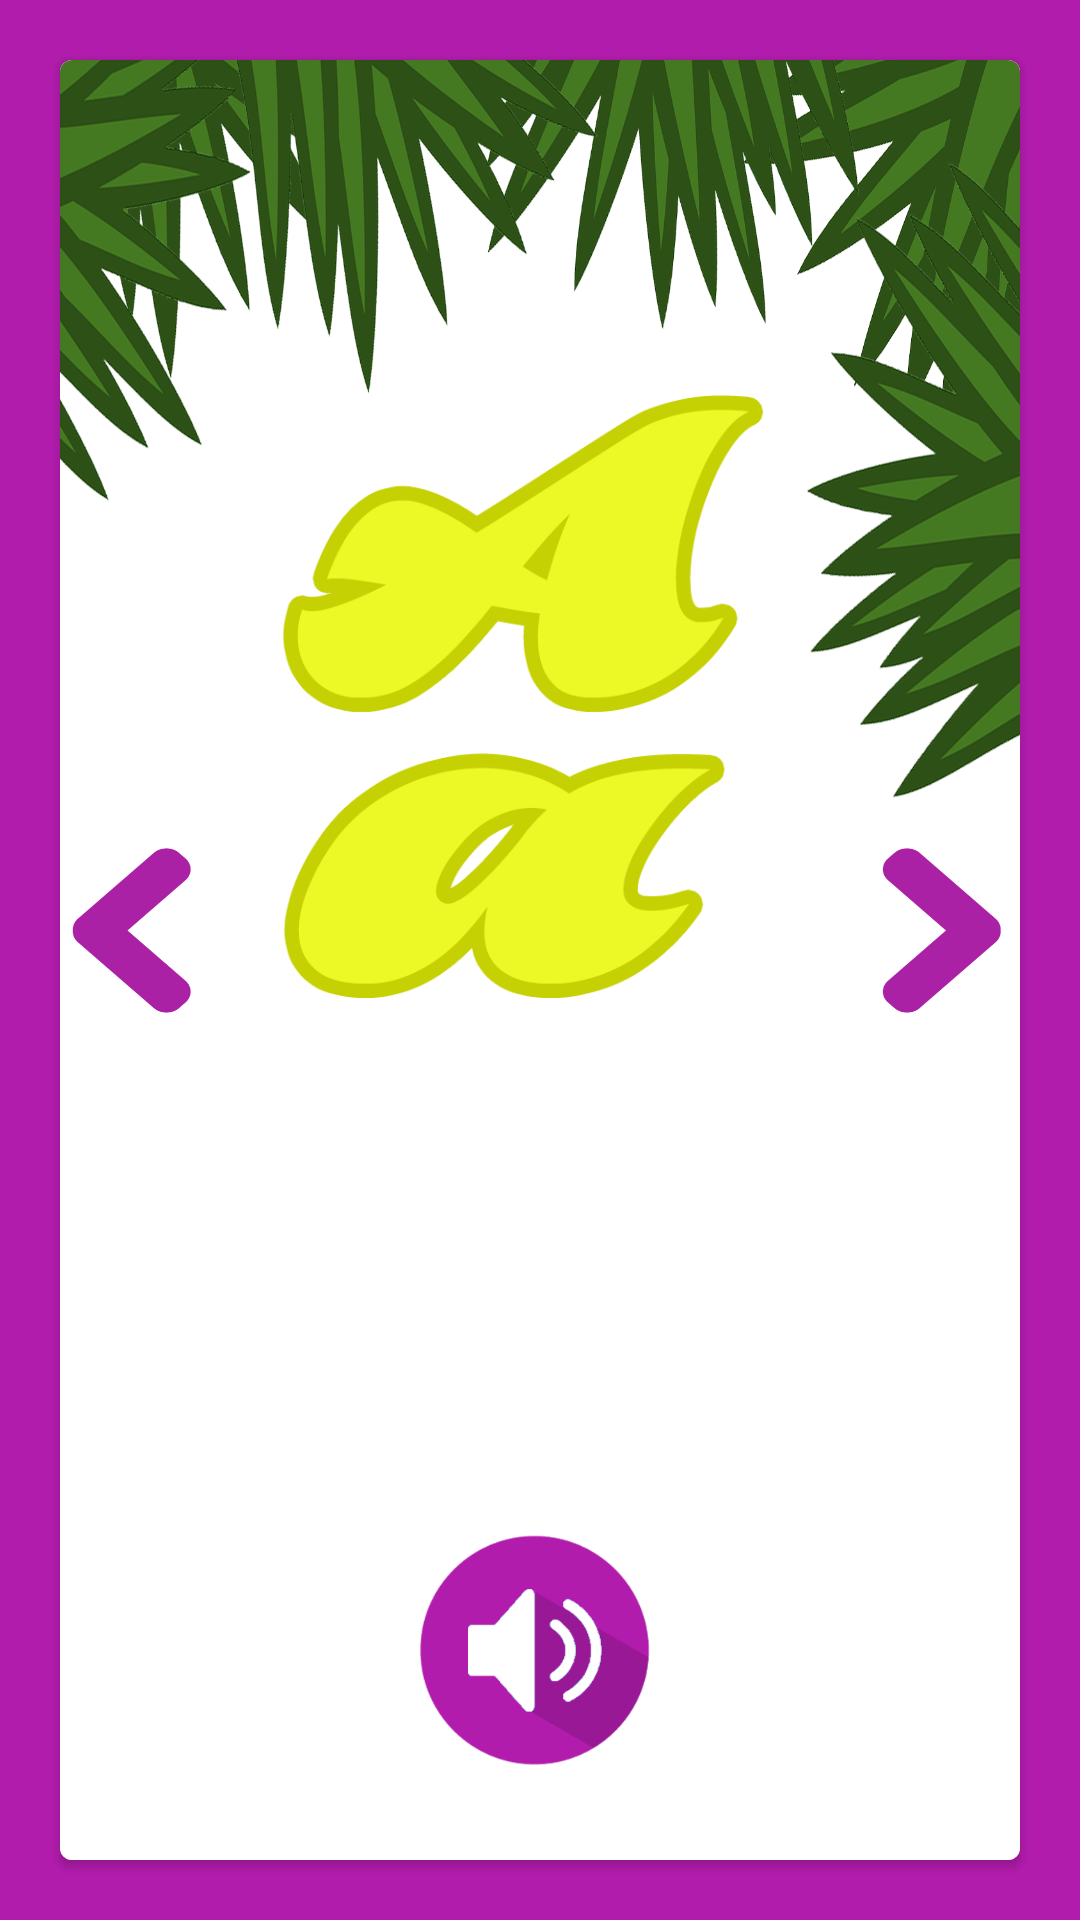

Named icons in this screenshot (1080×1920) and their bounding boxes, (x1, y1, x2, y2):
backslide: (72, 848, 191, 1013)
forwardslide: (882, 848, 1001, 1013)
soun: (420, 1535, 650, 1765)
